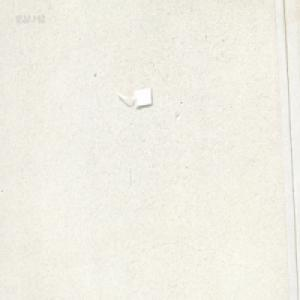LuggageTag: (114, 86, 152, 110)
